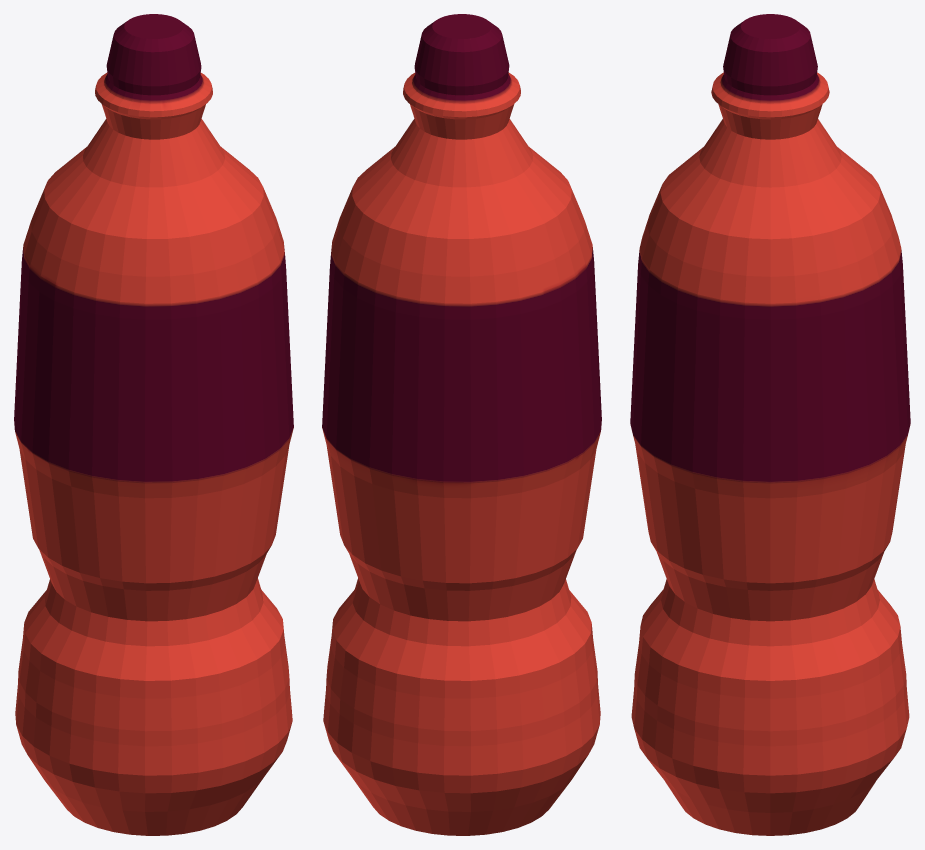
Rendered from Cola.fbx.
The picture shows the model from 3 angles, left to right: view 1: azimuth 30°, elevation 25°; view 2: azimuth 150°, elevation 25°; view 3: azimuth 270°, elevation 25°; orthographic projection.
Visible parts, largest first — view 1: Cylinder; view 2: Cylinder; view 3: Cylinder.
Part boxes in pixels (left/top/right/bottom): Cylinder: left=14, top=14, right=293, bottom=835; Cylinder: left=322, top=14, right=601, bottom=835; Cylinder: left=630, top=14, right=910, bottom=835.
Bounding box in the file's own units: 6.72 × 20.37 × 6.72.
